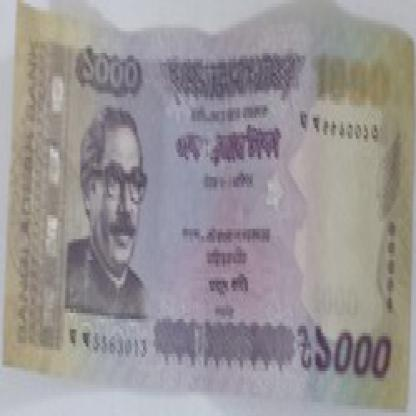One Thousand taka: (294, 316, 392, 388), (78, 42, 142, 104)
